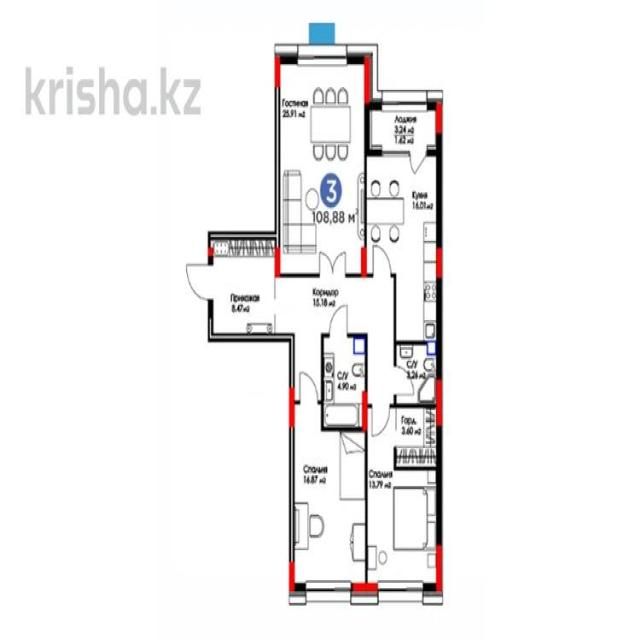balcony: (370, 100, 440, 151)
bathroom: (324, 336, 369, 428), (393, 345, 437, 404)
hallway: (209, 236, 276, 342), (277, 277, 367, 338)
kitchen: (368, 152, 441, 343)
living_room: (275, 56, 368, 277), (294, 425, 367, 592), (368, 468, 440, 590)
other: (367, 404, 440, 466)
